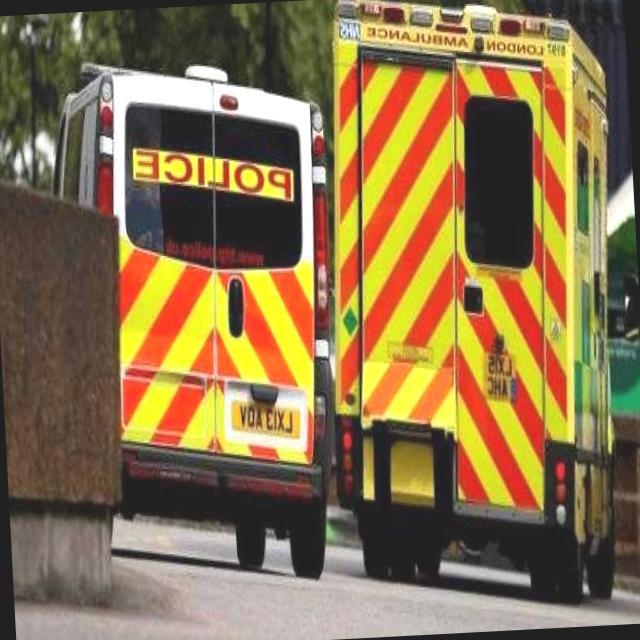emergency-vehicle: (307, 0, 640, 616)
